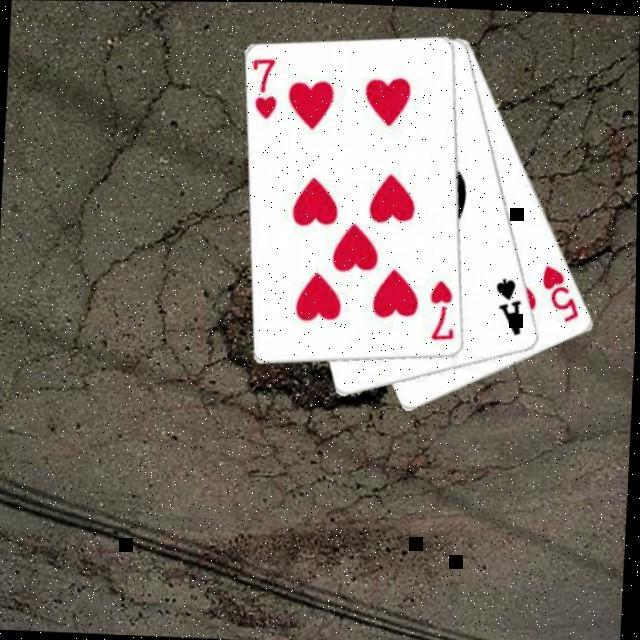5H: (540, 263, 586, 326)
7H: (248, 56, 284, 124), (428, 278, 461, 345)
AS: (494, 276, 528, 340)
